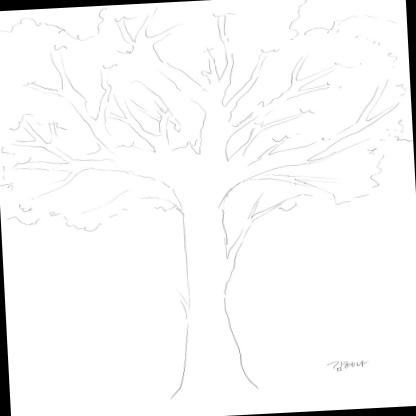branch_cut: (11, 26, 390, 252)
crown_cloud: (0, 0, 416, 237)
trunk_straight: (174, 242, 252, 376)
